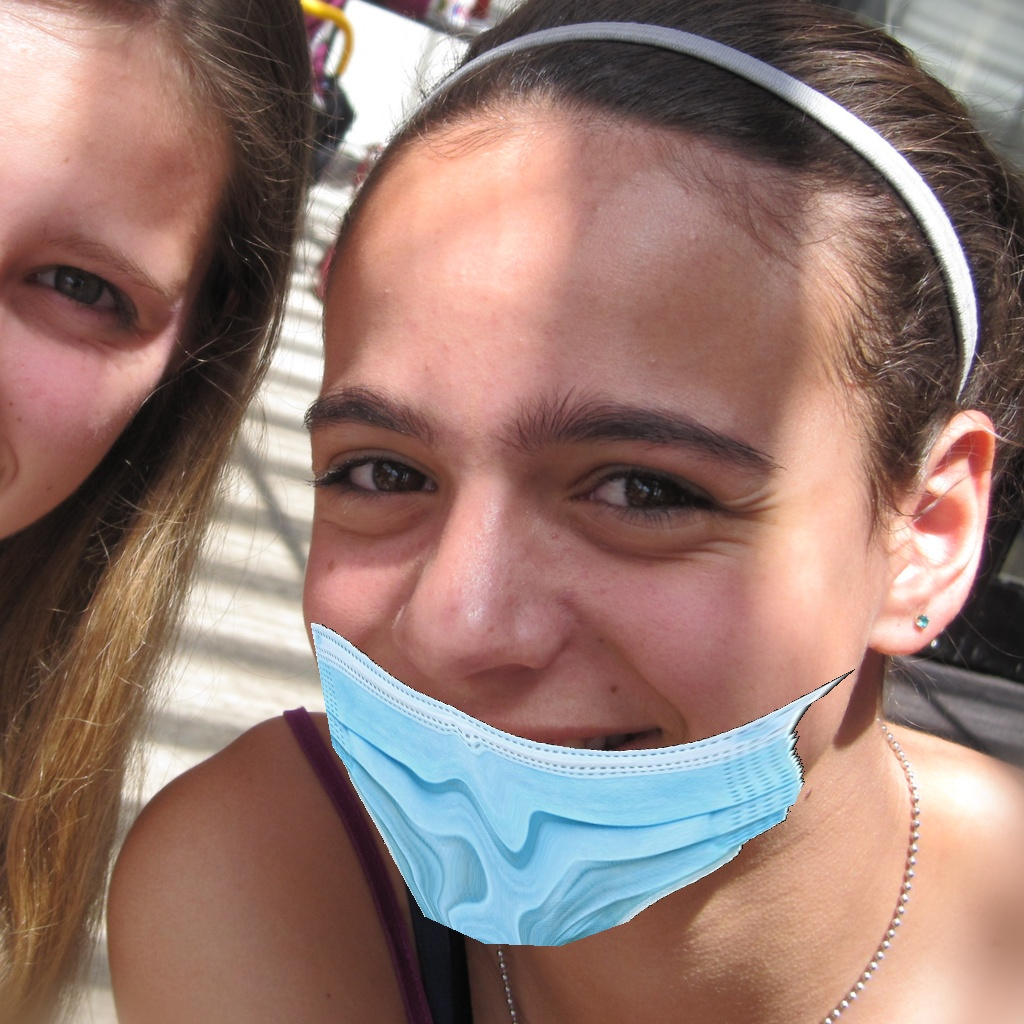mask_weared_incorrect: (295, 338, 842, 940)
